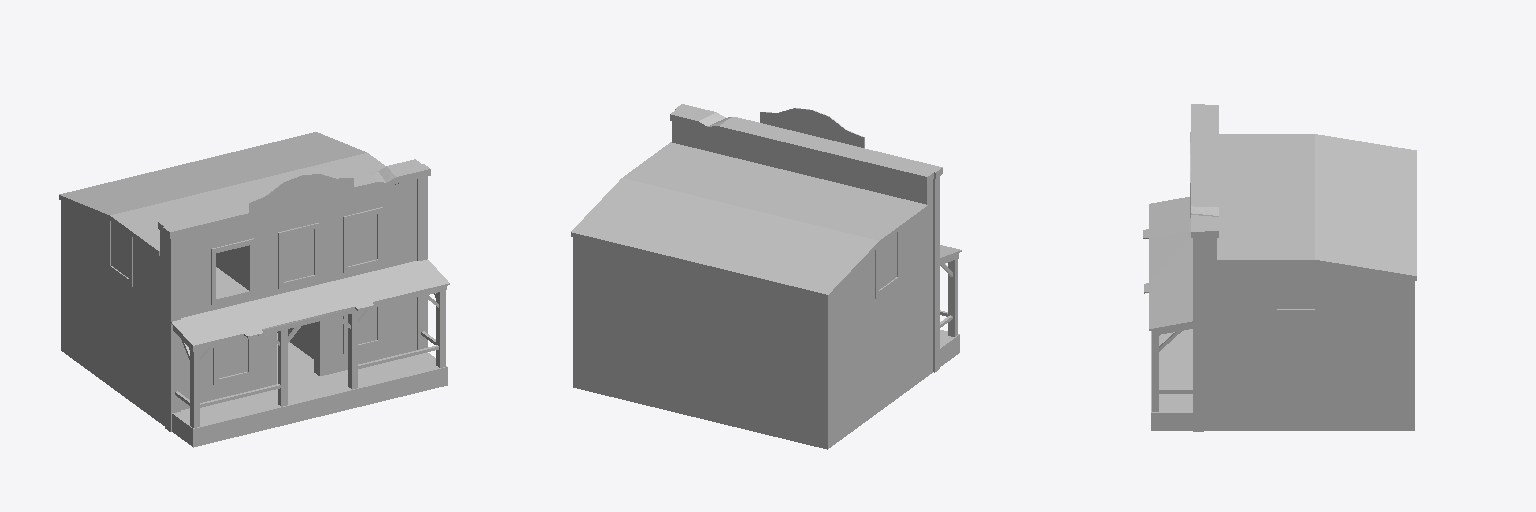
The model's file is BG_Saloon.obj.
3 views of the same model, side by side, from view 1: azimuth 30°, elevation 25°; view 2: azimuth 150°, elevation 25°; view 3: azimuth 270°, elevation 25° (orthographic).
Parts seen in each view (by area): view 1: Saloon; view 2: Saloon; view 3: Saloon.
Boxes of the visible parts, x1=… form: Saloon: x1=59, y1=132, x2=449, y2=447; Saloon: x1=571, y1=104, x2=961, y2=449; Saloon: x1=1143, y1=104, x2=1416, y2=431.
Size of the model in its own units: 82 by 68 by 74.63.